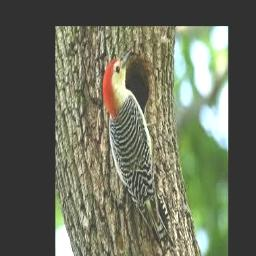Woodpecker: (103, 50, 176, 256)
